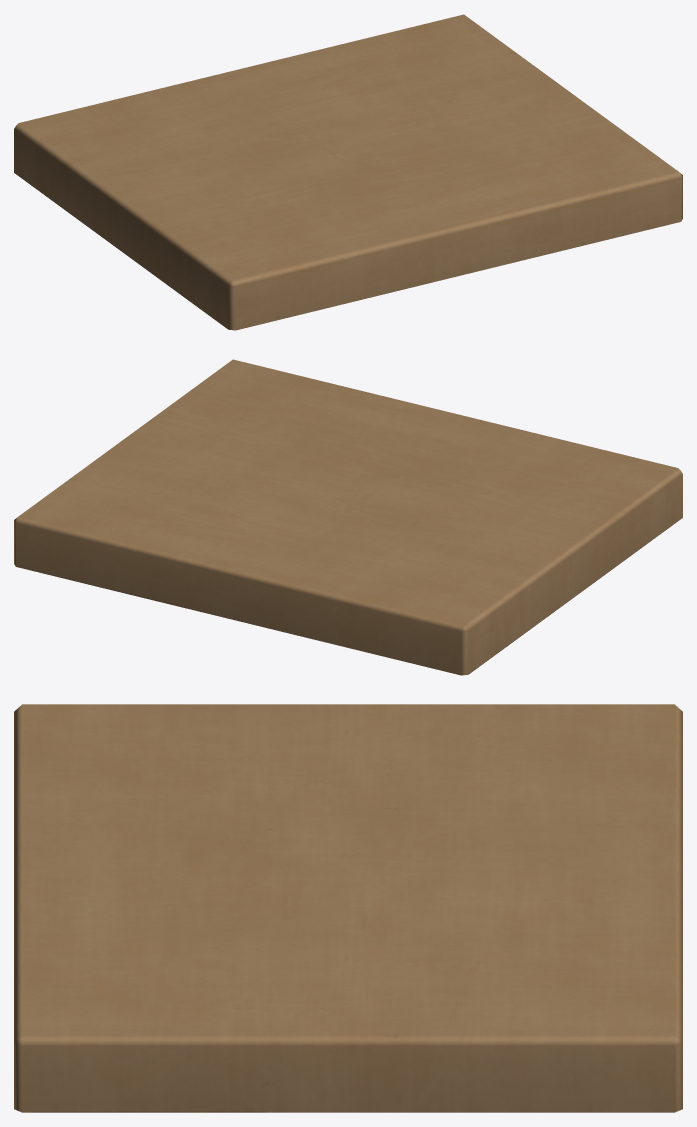
Rendered from SM_FilingBox_Lid.FBX.
The picture shows the model from 3 angles, top to bottom: view 1: azimuth 30°, elevation 25°; view 2: azimuth 150°, elevation 25°; view 3: azimuth 270°, elevation 25°; orthographic projection. The views are drawn at different scales.
Parts seen in each view (by area): view 1: FilingBox_Lid; view 2: FilingBox_Lid; view 3: FilingBox_Lid.
Boxes of the visible parts, <box> form: FilingBox_Lid: <box>14,14,682,330</box>; FilingBox_Lid: <box>14,359,682,675</box>; FilingBox_Lid: <box>14,704,682,1112</box>.
Size of the model in its own units: 30.66 by 3.13 by 25.66.
